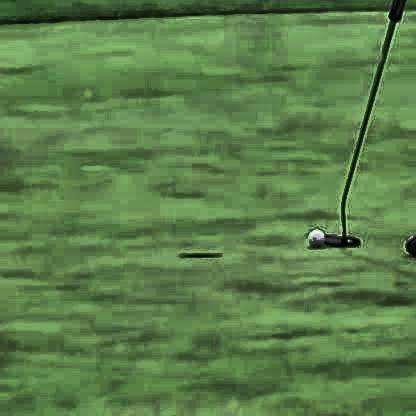golfball: (305, 225, 323, 244)
